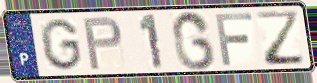1: (137, 12, 165, 72)
F: (213, 11, 256, 68)
G: (170, 9, 218, 72), (38, 17, 84, 73)
P: (81, 15, 125, 72)
Z: (254, 8, 308, 67)
